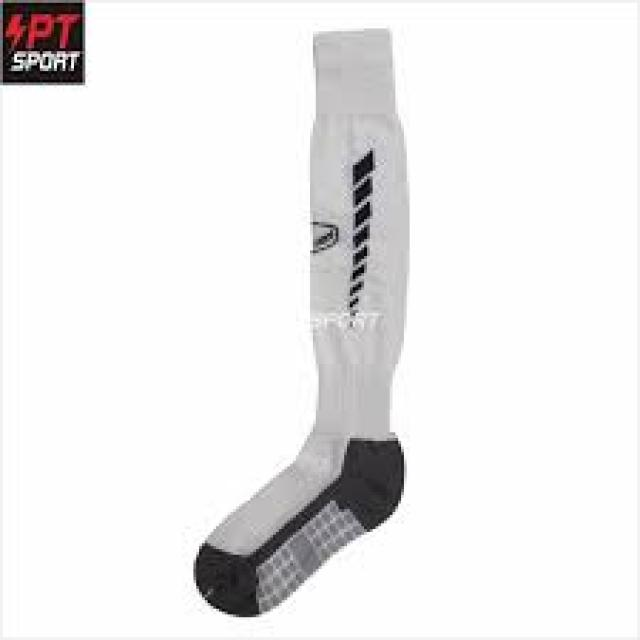sock: (190, 26, 410, 617)
